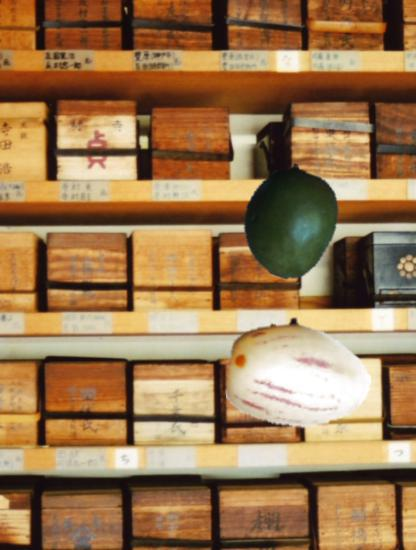Mango: (234, 165, 347, 278)
Pepino: (224, 300, 371, 447)
